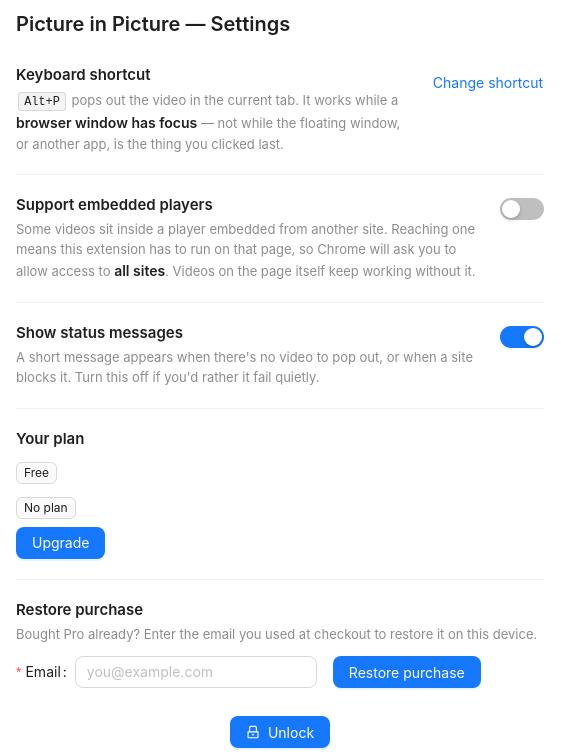
Test: Options container › a successful restore updates the displayed tier
Type "owner@example.com" into the field labelled "Email" at point(196, 672), box [75,656,317,688]
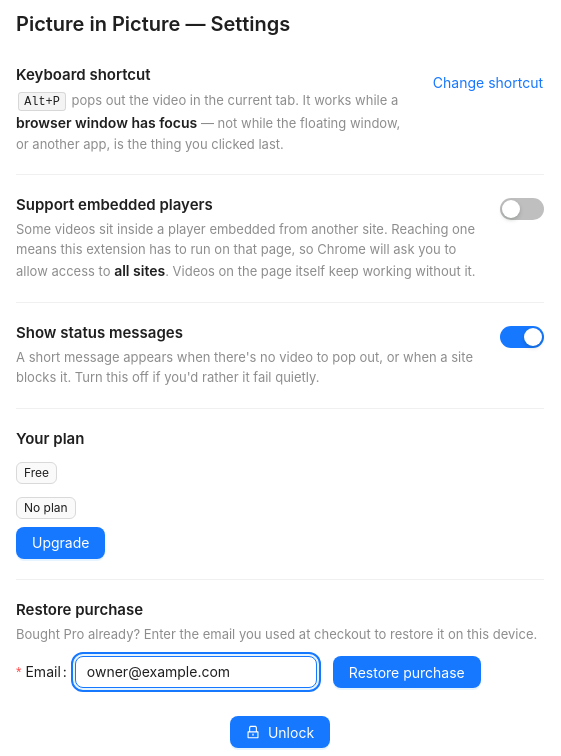
Click the button "Restore purchase" at point(407, 672), box [333,656,481,688]
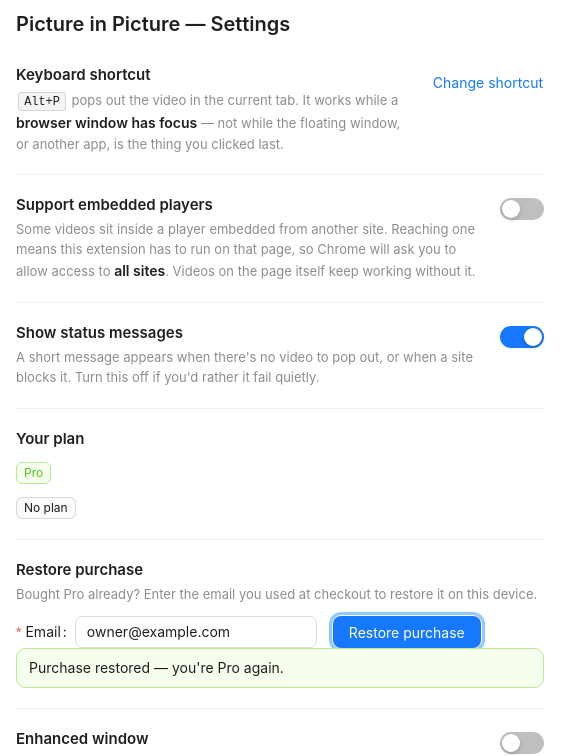
Expected: the message shows "Purchase restored", [29,659,284,676]
